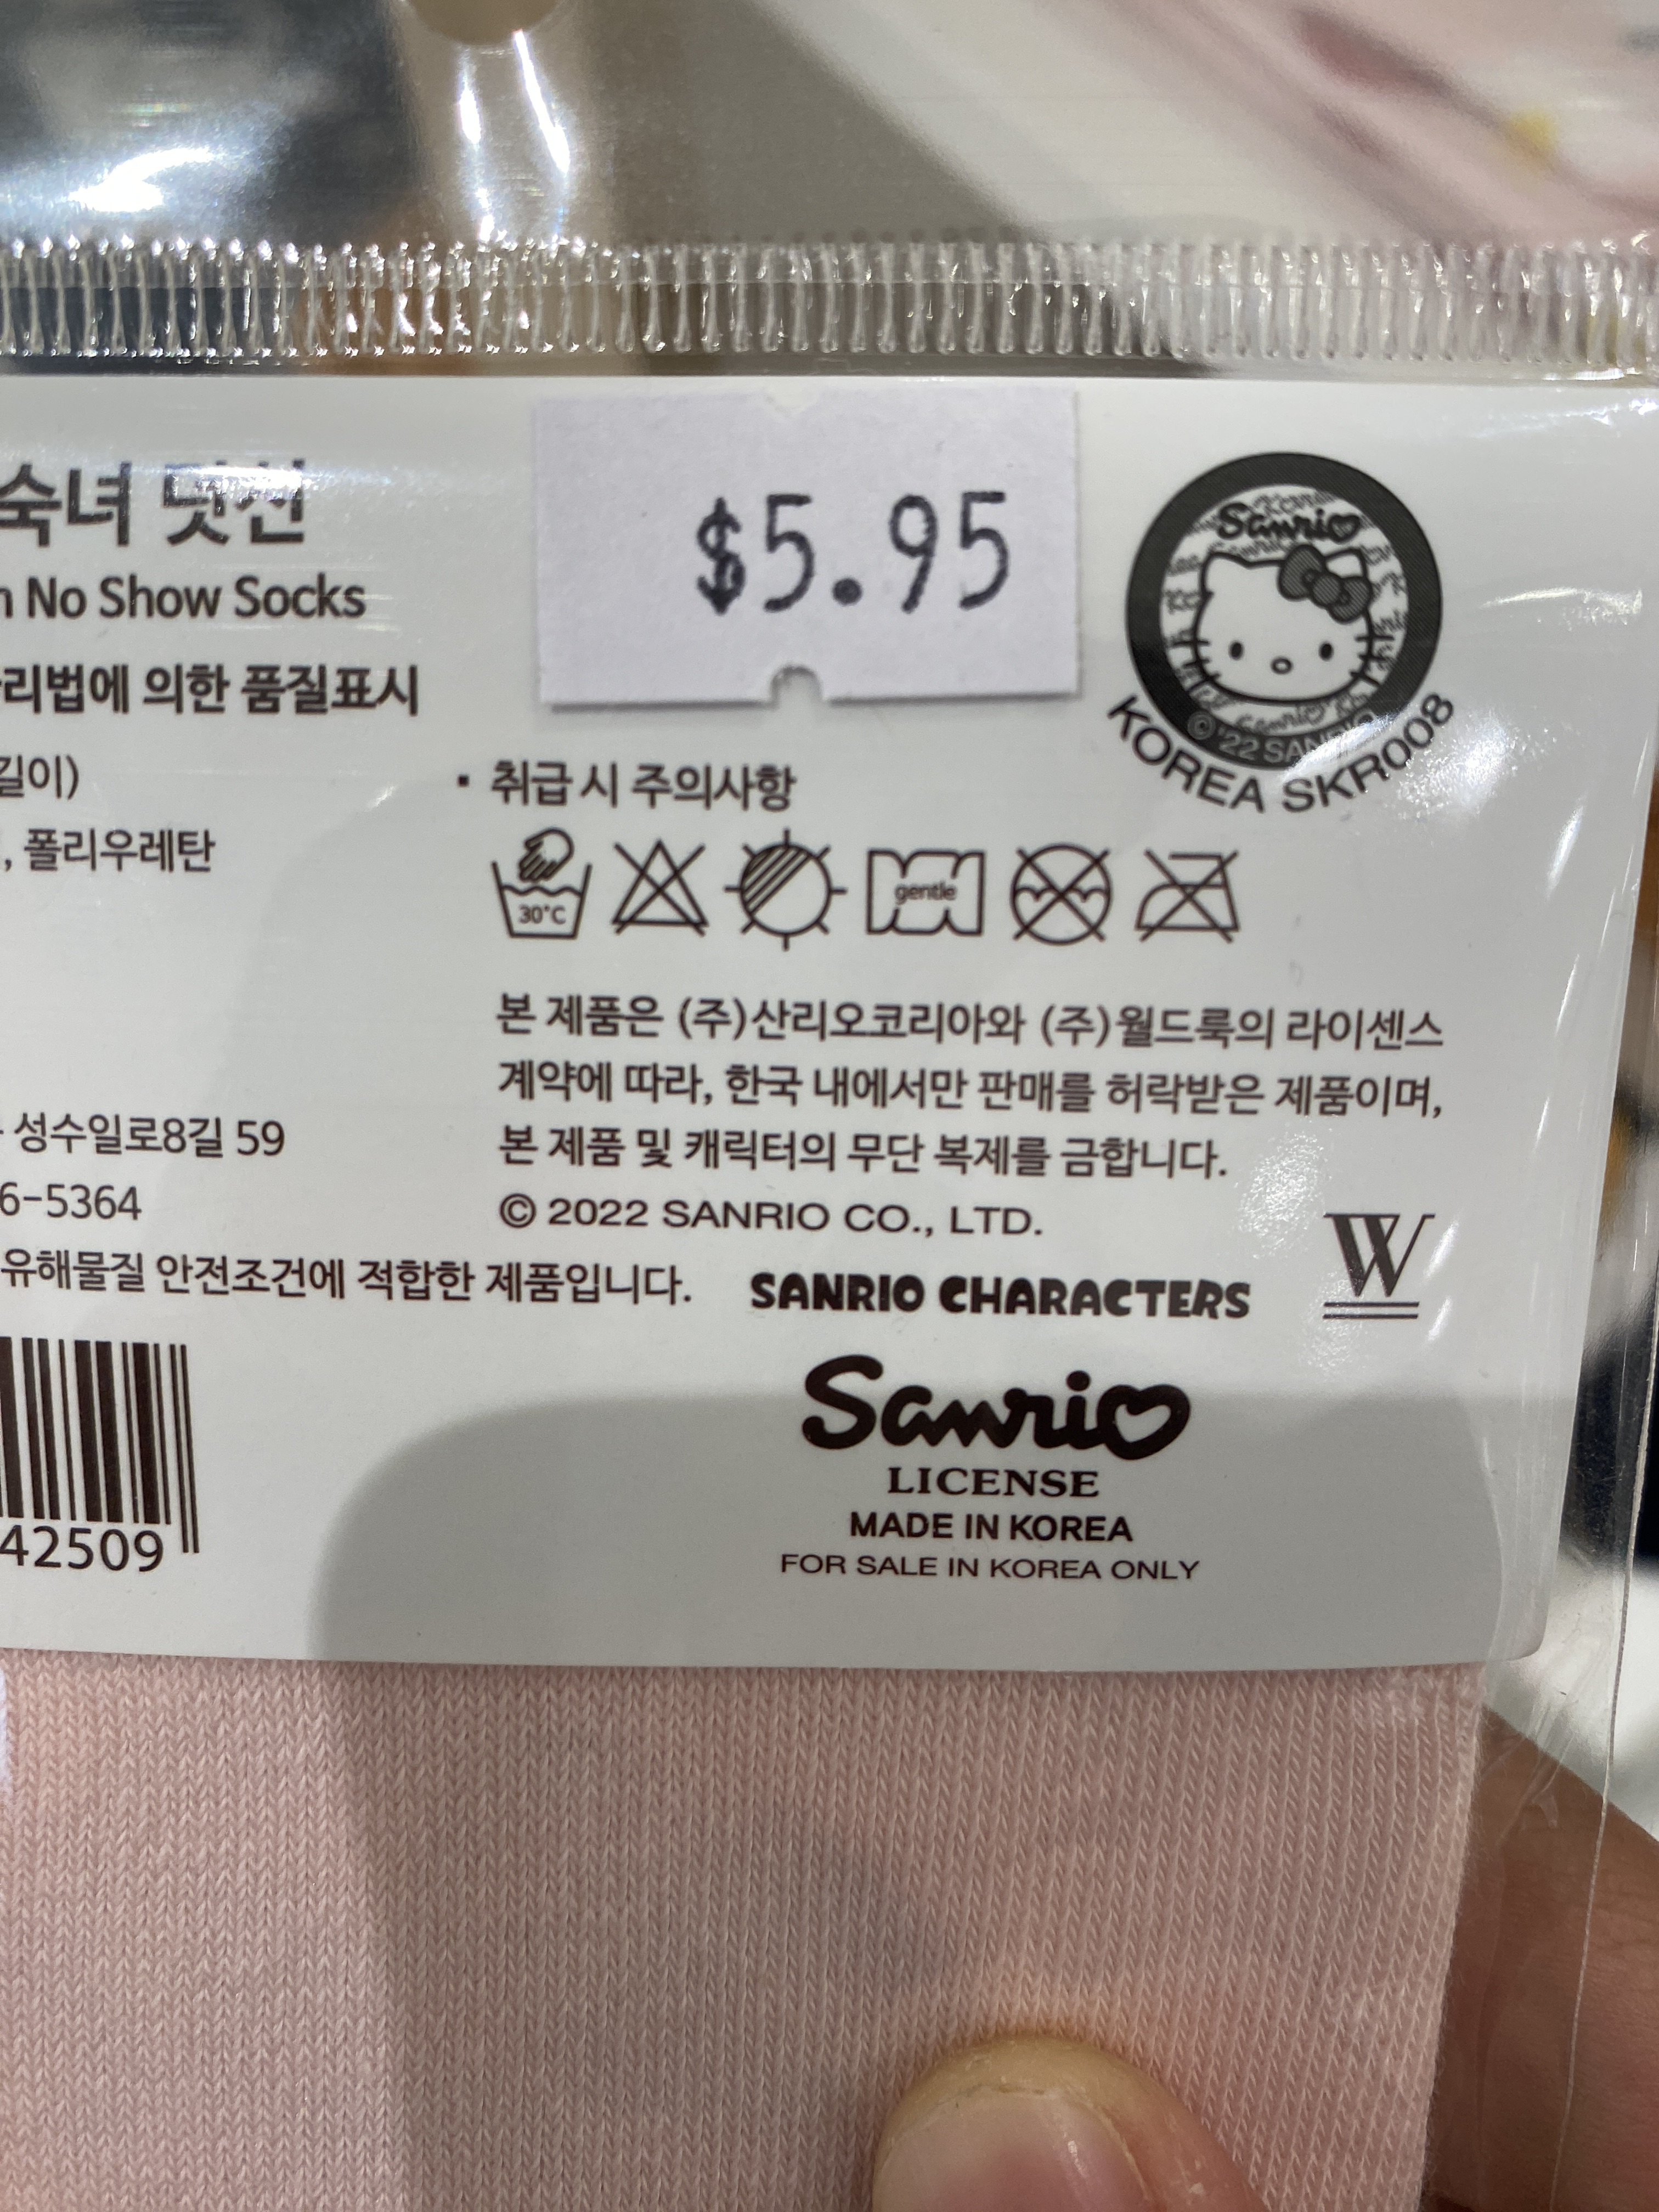tag: (0, 348, 1619, 1669)
